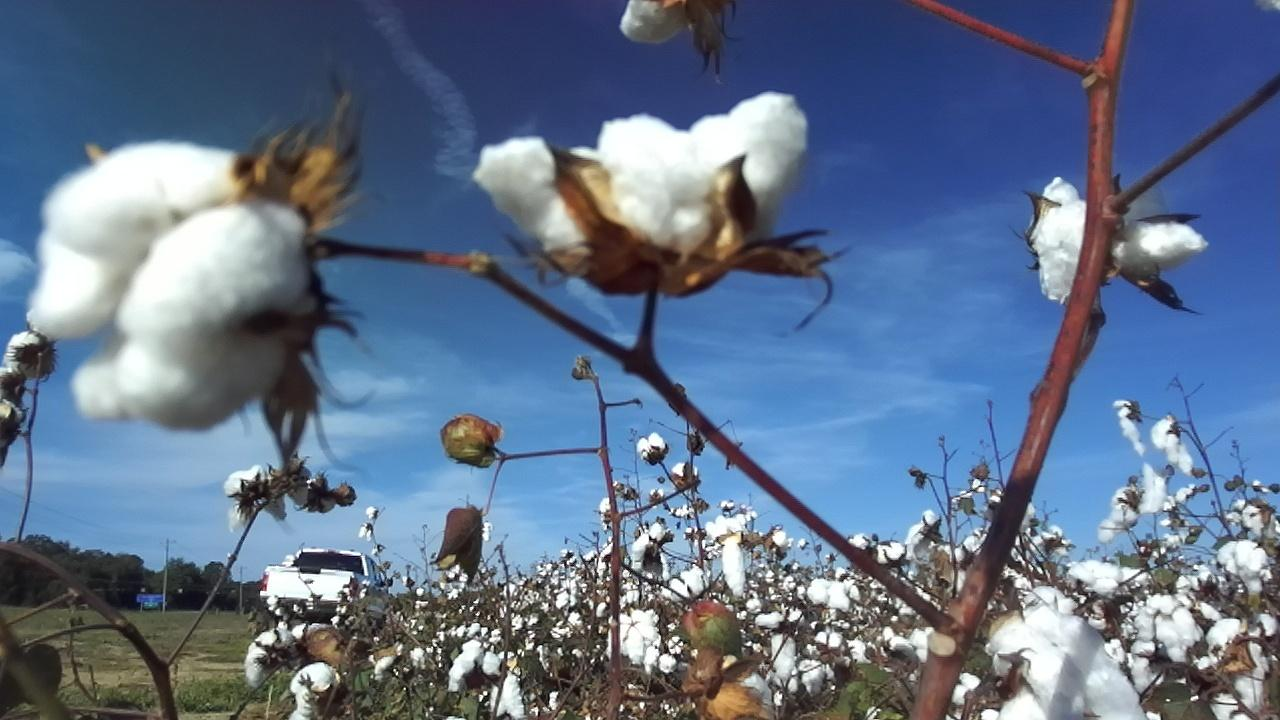cotton_ready: (28, 140, 319, 434), (472, 94, 809, 269), (1037, 175, 1209, 298), (990, 610, 1145, 720), (224, 467, 292, 530), (621, 0, 696, 45), (725, 660, 776, 720), (291, 662, 335, 720)
